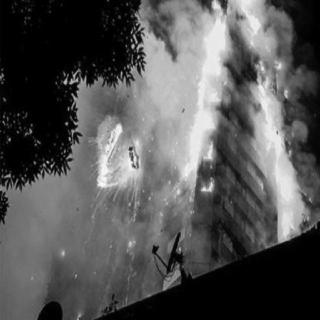Fire: (180, 11, 230, 190), (85, 106, 147, 193)
Smoke: (277, 10, 317, 130)
